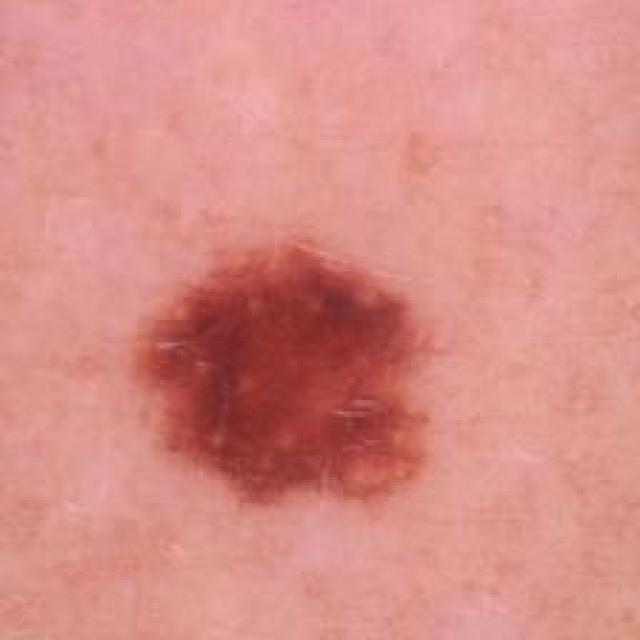Cancer: (129, 234, 434, 509)
